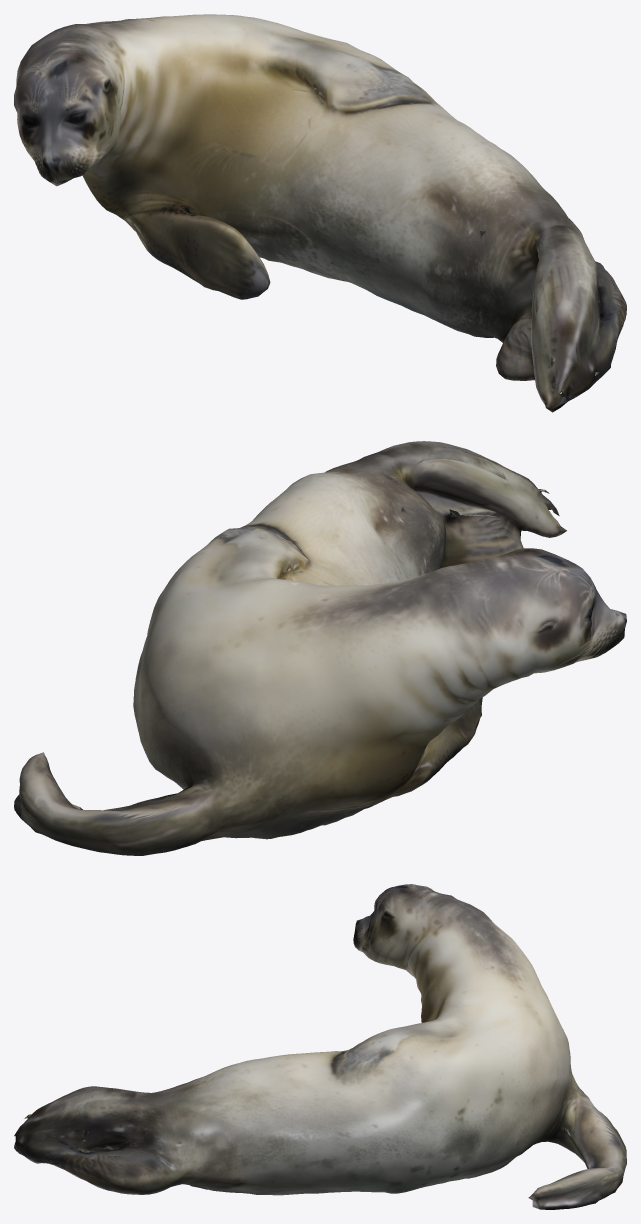
The model's file is Seal_on_Ice_Floe_0409064406_texture.glb.
The picture shows the model from 3 angles, top to bottom: view 1: azimuth 30°, elevation 25°; view 2: azimuth 150°, elevation 25°; view 3: azimuth 270°, elevation 25°; orthographic projection. The views are drawn at different scales.
Size of the model in its own units: 1.25 by 0.6784 by 1.98.
1 material, 1 textured.
